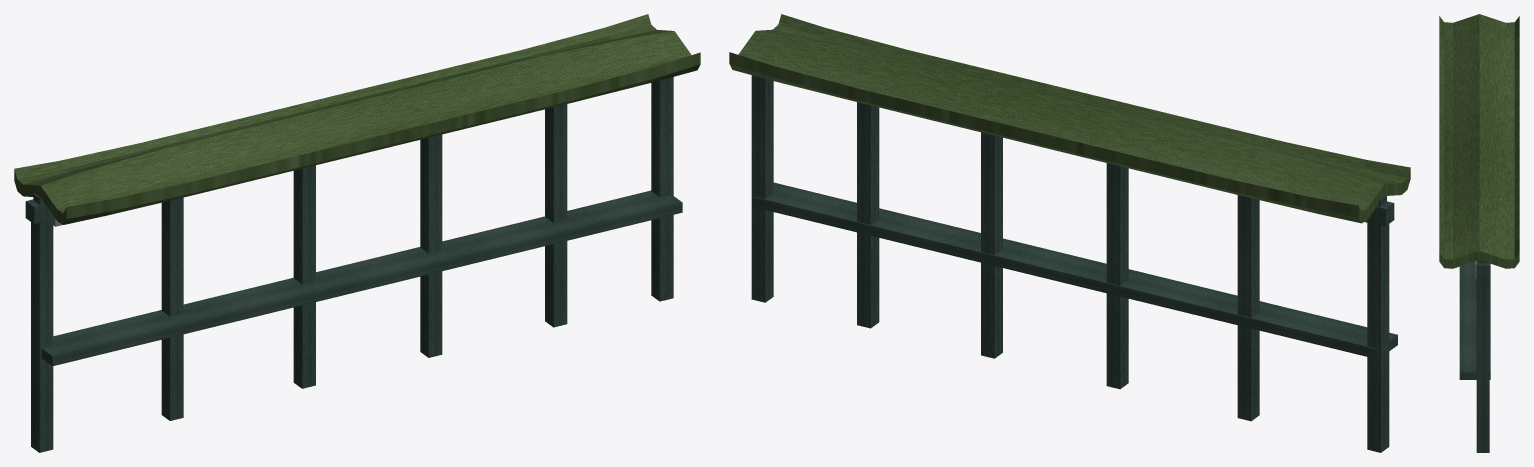
3 renders of one model, left to right at view 1: azimuth 30°, elevation 25°; view 2: azimuth 150°, elevation 25°; view 3: azimuth 270°, elevation 25°, orthographic. The views are drawn at different scales.
Parts seen in each view (by area): view 1: garrison_part_0001, garrison_part_0000, garrison_part_0002; view 2: garrison_part_0001, garrison_part_0000, garrison_part_0002; view 3: garrison_part_0001, garrison_part_0000, garrison_part_0002.
Boxes of the visible parts, left/top/right/bottom form: garrison_part_0001: left=14, top=14, right=700, bottom=224; garrison_part_0000: left=31, top=77, right=673, bottom=452; garrison_part_0002: left=41, top=190, right=682, bottom=366; garrison_part_0001: left=729, top=14, right=1410, bottom=225; garrison_part_0000: left=751, top=75, right=1389, bottom=452; garrison_part_0002: left=753, top=182, right=1397, bottom=359; garrison_part_0001: left=1439, top=14, right=1519, bottom=278; garrison_part_0000: left=1476, top=279, right=1489, bottom=452; garrison_part_0002: left=1459, top=261, right=1490, bottom=379.
Size of the model in its own units: 795 by 321 by 112.
